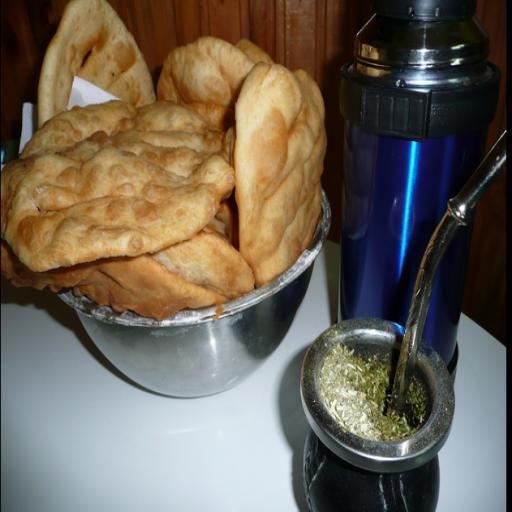bolleria: (0, 146, 234, 270), (234, 63, 326, 287)
mate: (302, 130, 507, 511)
termo: (339, 0, 500, 323)
